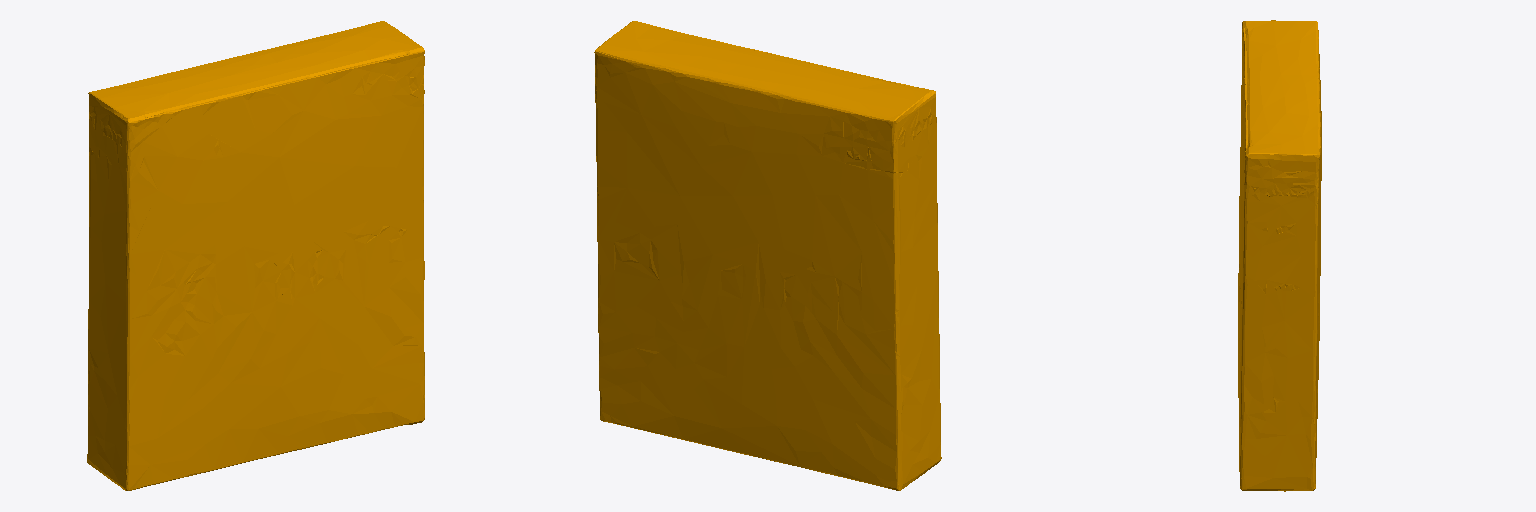
robot.urdf — Wrigley_Orbit_Mint_Variety_18_Count:

<robot name="Wrigley_Orbit_Mint_Variety_18_Count">
    <link name="base">
        <inertial>
            <origin xyz="2.1591926876276954e-18 1.3494954297673095e-18 -1.7273541501021563e-17" />
            <mass value="0.0020922213556522932" />
            <inertia ixx="9.312134548742177e-06" ixy="-2.217432903831431e-08" 
                     ixz="-3.279250131730272e-08" iyy="1.5241686288582114e-05" 
                     iyz="-1.1095058944766937e-07" izz="6.731006989506428e-06" />
        </inertial>
        <visual>
            <origin xyz="0 0 0" />
            <geometry>
                <mesh filename="visual_geometry.obj" />
            </geometry>
        </visual>
        <collision>
            <origin xyz="0 0 0" />
            <geometry>
                <mesh filename="collision_geometry.obj" />
            </geometry>
        </collision>
    </link>
</robot>

--- Facts derived from the render (not from the file) ---
Views: 3 orthographic renders of the robot side by side, from view 1: azimuth 30°, elevation 25°; view 2: azimuth 150°, elevation 25°; view 3: azimuth 270°, elevation 25°.
Model Wrigley_Orbit_Mint_Variety_18_Count with 1 links and 0 joints (none), rooted at base, posed all joints at 0.
Visible links, largest first — view 1: base; view 2: base; view 3: base.
Link boxes in pixels (<box>): base: <box>87,21,424,490</box>; base: <box>594,21,941,490</box>; base: <box>1238,20,1321,491</box>.
Size in the robot's own frame: 0.1946 by 0.051 by 0.229 metres.
Meshes: 1 distinct files referenced, 1 mesh visuals loaded (1 OBJ).